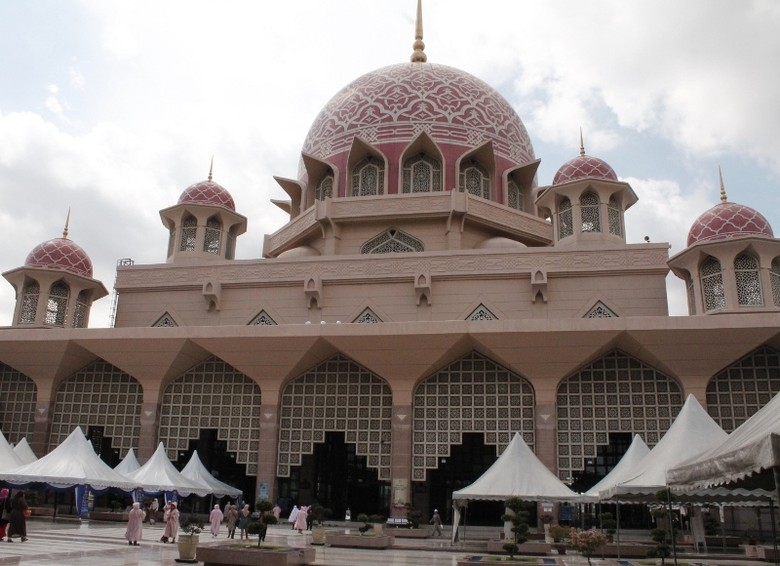Mosque: (43, 5, 777, 444)
